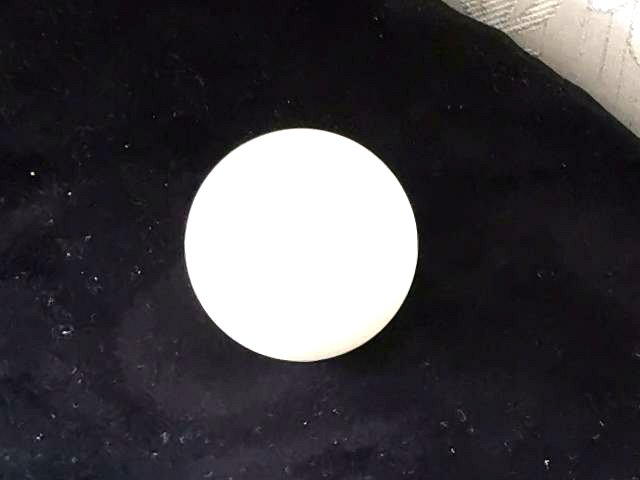ball: (183, 128, 417, 361)
